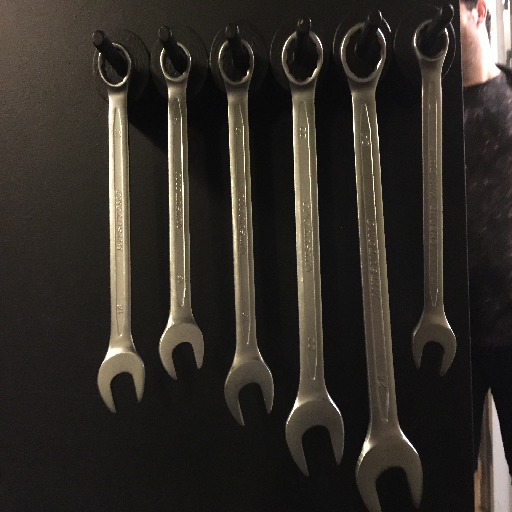bottom: (351, 432, 430, 512), (285, 397, 347, 476), (221, 356, 276, 425), (96, 346, 146, 415), (156, 317, 206, 379), (410, 313, 458, 377)
top: (338, 19, 388, 90), (279, 28, 327, 88), (215, 36, 257, 91), (94, 41, 137, 92), (412, 18, 453, 68), (158, 40, 195, 87)
